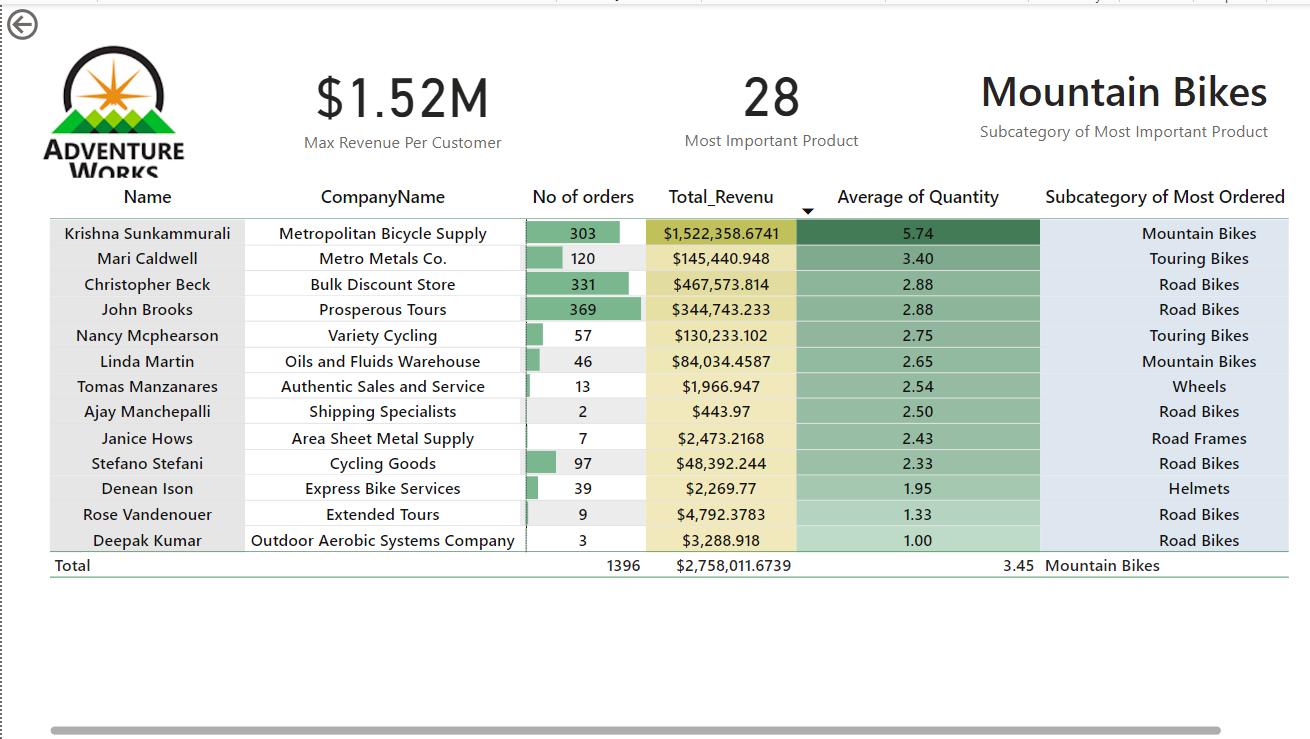

The dashboard page shown, as its layout file describes it:
{"tool":"powerbi","page":{"name":"Customer_Details","canvas":[1280,720],"ordinal":1},"visuals":[{"type":"image","box":[0,26.4,218.1,162.5],"z":0},{"type":"actionButton","box":[0,0,100,40],"z":1000},{"type":"tableEx","fields":{"Values":["CustomerInfo.Name","CustomerInfo.CompanyName","FactSales.SalesOrderID","FactSales.LineTotal","FactSales.Quantity","FactSales.Subcategory of Most Important Product"]},"box":[40.6,169.9,1223.5,550.2],"z":2000},{"type":"card","fields":{"Values":["FactSales.Subcategory of Most Important Product"]},"box":[931.9,20.8,331.9,148.6],"z":3000},{"type":"card","fields":{"Values":["FactSales.Most Important Product"]},"box":[597.2,19.4,312.5,150],"z":4000},{"type":"card","fields":{"Values":["FactSales.MaxRevenueInContext"]},"box":[211.1,20.8,361.1,150],"z":5000}]}

Visuals, with their boxes on the page's 1280x720 design canvas (x1, y1, x2, y2). These are canvas units, not pixel positions in the 1310x739 screenshot, which may show the page scaled, cropped or inside an application window:
image: locate(0, 26, 218, 189)
actionButton: locate(0, 0, 100, 40)
tableEx - CustomerInfo.Name x CustomerInfo.CompanyName: locate(41, 170, 1264, 720)
card - FactSales.Subcategory of Most Important Product: locate(932, 21, 1264, 169)
card - FactSales.Most Important Product: locate(597, 19, 910, 169)
card - FactSales.MaxRevenueInContext: locate(211, 21, 572, 171)
